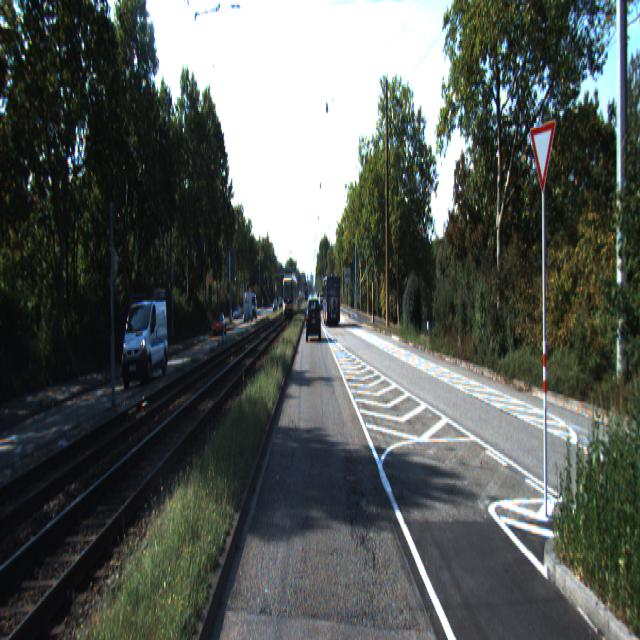Car: (120, 300, 170, 391), (322, 276, 341, 328), (306, 299, 321, 344)
